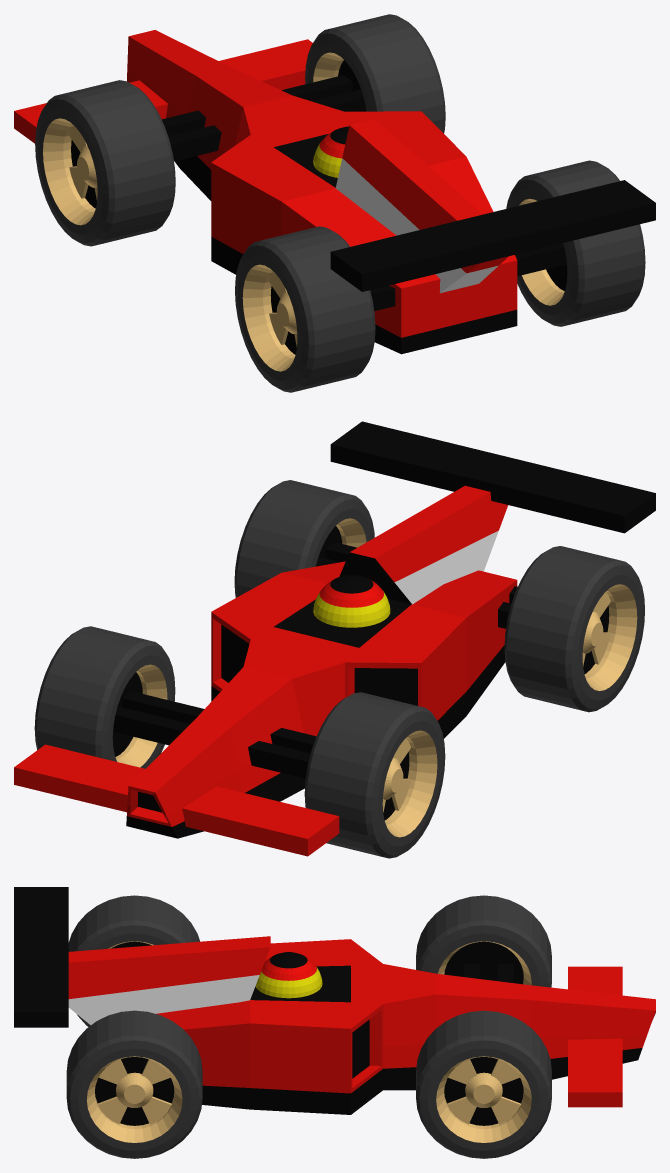
The model's file is Car.fbx.
The picture shows the model from 3 angles, top to bottom: view 1: azimuth 30°, elevation 25°; view 2: azimuth 150°, elevation 25°; view 3: azimuth 270°, elevation 25°; orthographic projection. The views are drawn at different scales.
Visible parts, largest first — view 1: Sphere.001, Cylinder.010, Cylinder.013, Cylinder.011, Cylinder.012; view 2: Sphere.001, Cylinder.013, Cylinder.010, Cylinder.012, Cylinder.011; view 3: Sphere.001, Cylinder.011, Cylinder.012, Cylinder.010, Cylinder.013.
Boxes of the visible parts, <box> form: Sphere.001: <box>14,30,655,354</box>; Cylinder.010: <box>35,80,175,246</box>; Cylinder.013: <box>235,226,375,392</box>; Cylinder.011: <box>506,160,645,326</box>; Cylinder.012: <box>305,14,445,133</box>; Sphere.001: <box>14,421,655,856</box>; Cylinder.013: <box>504,546,644,712</box>; Cylinder.010: <box>304,692,445,858</box>; Cylinder.012: <box>34,626,175,768</box>; Cylinder.011: <box>234,480,374,597</box>; Sphere.001: <box>14,887,655,1114</box>; Cylinder.011: <box>66,1010,202,1158</box>; Cylinder.012: <box>416,1010,551,1158</box>; Cylinder.010: <box>416,895,551,987</box>; Cylinder.013: <box>68,895,199,1026</box>.
Size of the model in its own units: 298 by 141 by 557.
